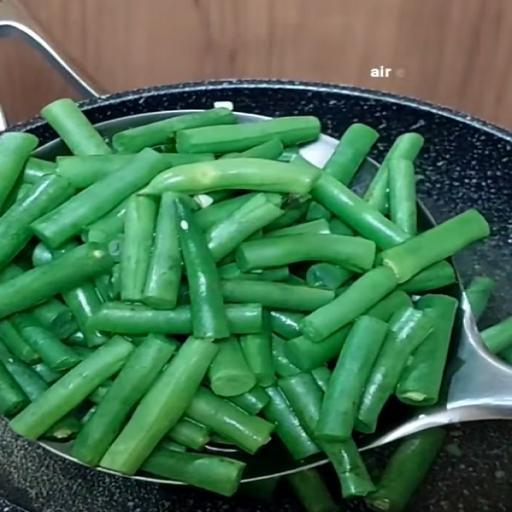buncis_rebus: (1, 67, 512, 501)
